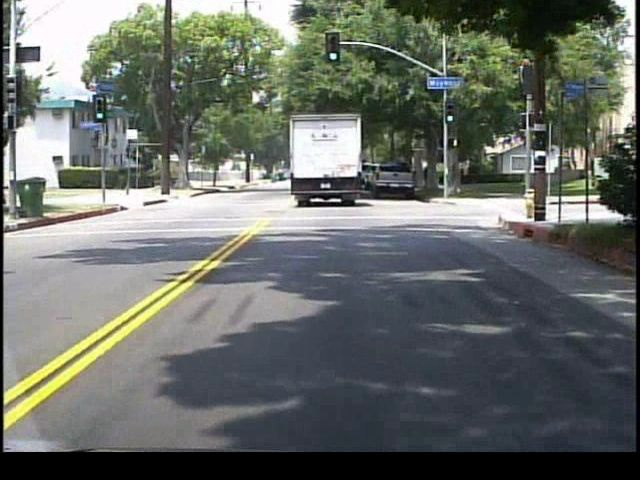person: (422, 166, 430, 185)
